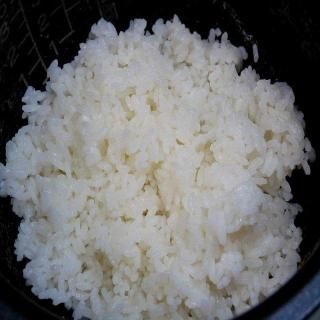Nasi: (1, 14, 317, 320)
